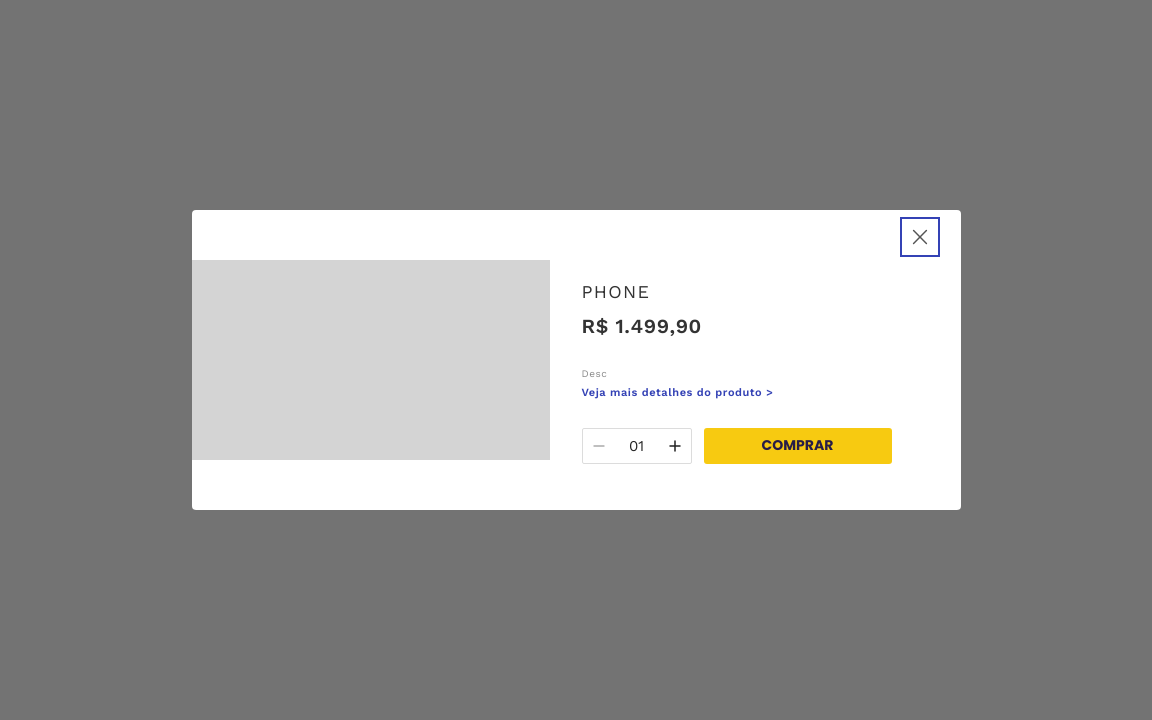
Test: ProductModal › confirma a compra sem fechar o modal
Click the button named "Aumentar quantidade".
click(674, 446)  # box [664,436,684,456]
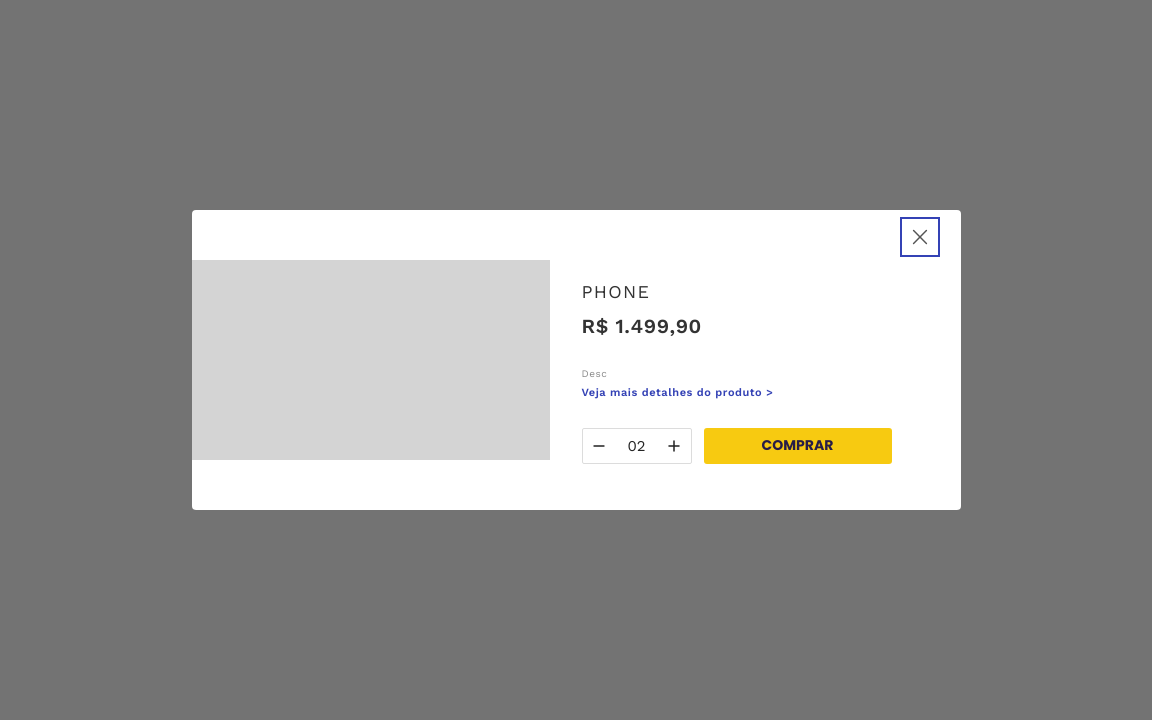
Click the button "Comprar".
click(798, 446)  # box [704,428,892,464]
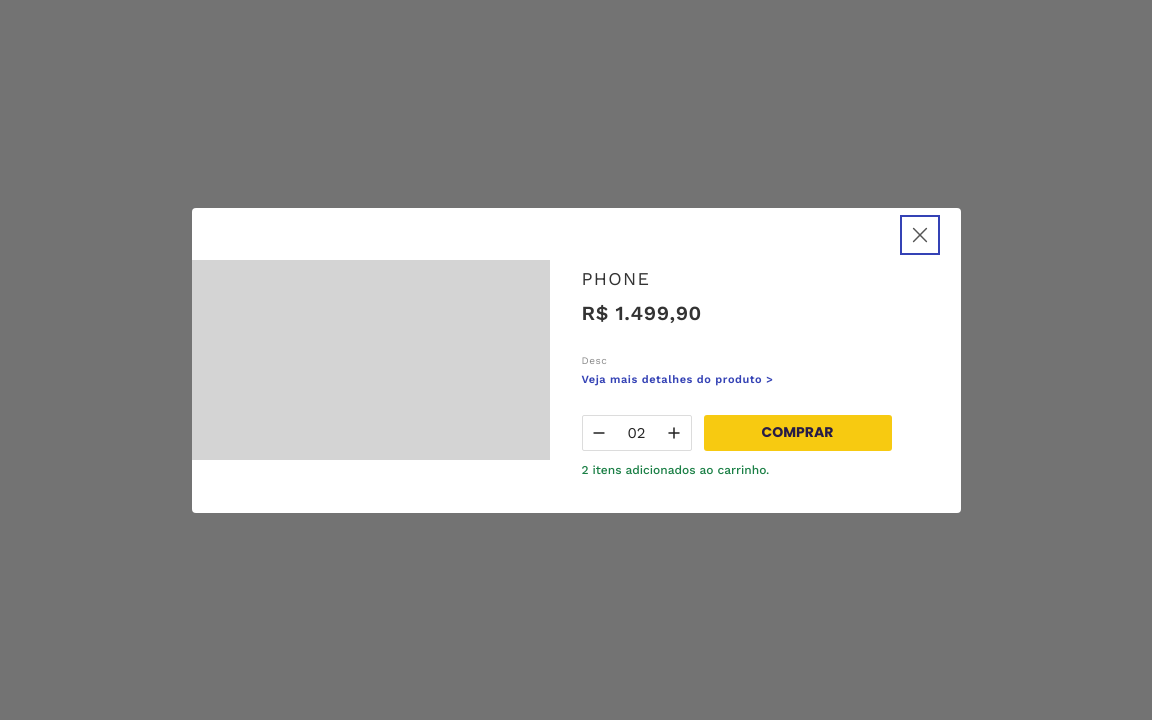
Now the text "2 itens adicionados ao carrinho." is shown, box [582,462,769,476]
